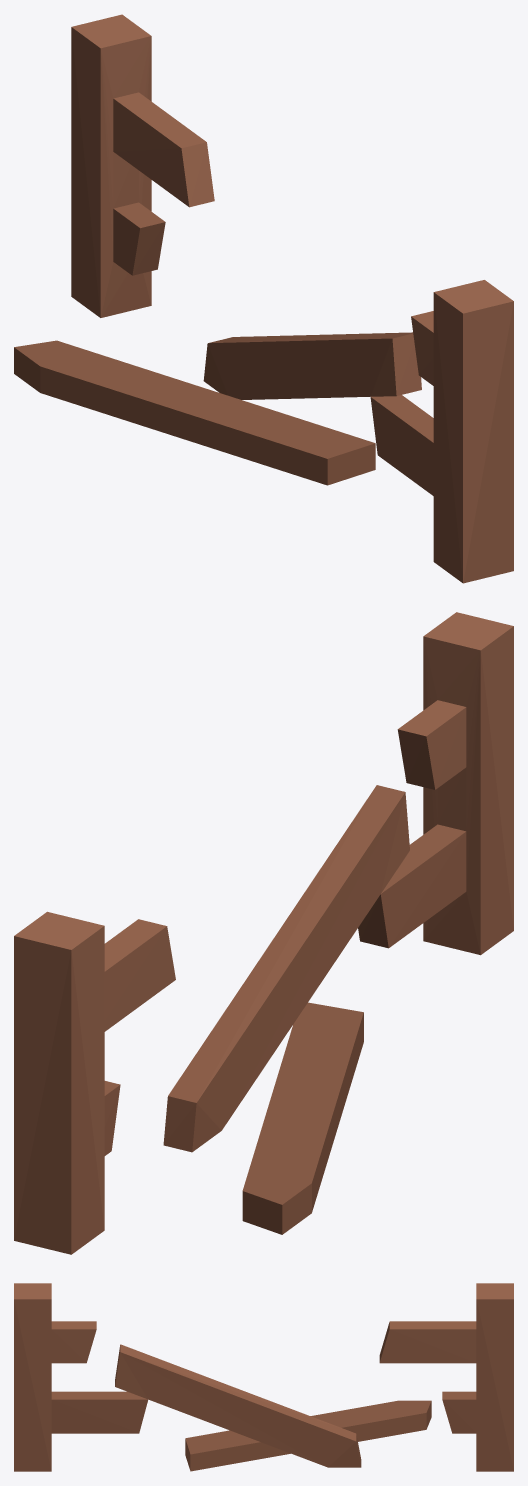
Rendered from fantasytown_fence_broken.glb.
The picture shows the model from 3 angles, top to bottom: view 1: azimuth 30°, elevation 25°; view 2: azimuth 150°, elevation 25°; view 3: azimuth 270°, elevation 25°; orthographic projection. The views are drawn at different scales.
Parts seen in each view (by area): view 1: fantasytown_fence_broken; view 2: fantasytown_fence_broken; view 3: fantasytown_fence_broken.
Part boxes in pixels (box(x1,y1,x2,y2)): fantasytown_fence_broken: box(14, 14, 513, 583); fantasytown_fence_broken: box(14, 612, 513, 1254); fantasytown_fence_broken: box(14, 1283, 513, 1471).
Size of the model in its own units: 0.2547 by 0.38 by 1.
